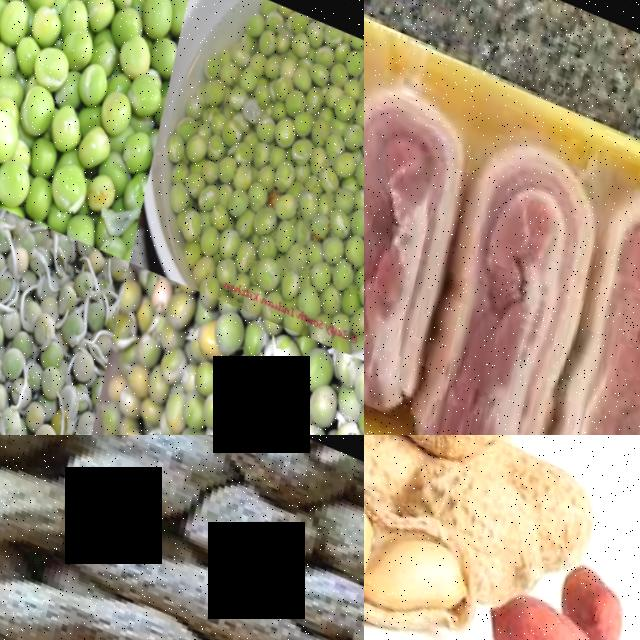peanuts: (57, 506, 300, 640), (364, 435, 549, 555), (168, 458, 324, 586), (53, 435, 208, 539), (0, 542, 150, 640), (364, 507, 472, 627), (0, 435, 84, 576), (461, 568, 606, 640), (544, 549, 627, 639)
peas: (140, 0, 364, 341), (0, 0, 218, 257), (125, 304, 364, 435)
pork belly: (369, 93, 640, 435), (364, 46, 504, 431), (497, 155, 640, 435)
